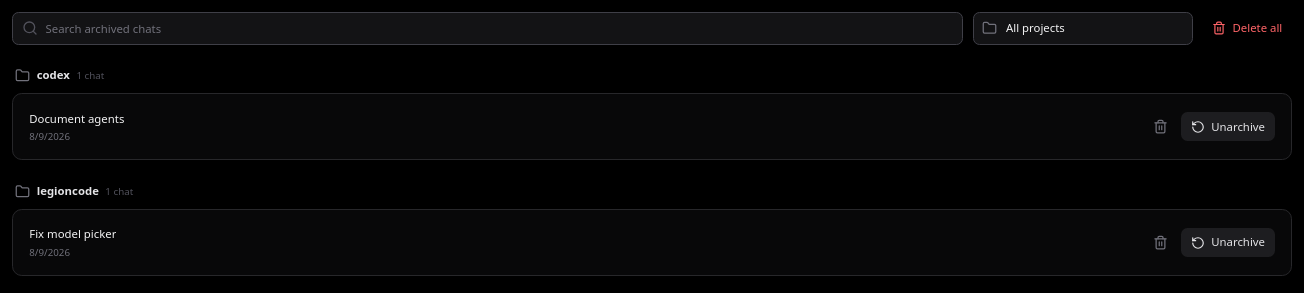
Test case: ArchivedChatsSettings › groups archived chats by project and filters the list
Check: the heading "legioncode" is shown, box [37,183,99,199]
Check: the heading "codex" is shown, box [37,67,70,84]
Type "model" into the search field with placeholder "Search archived chats" at (487, 28), box [12,12,963,44]
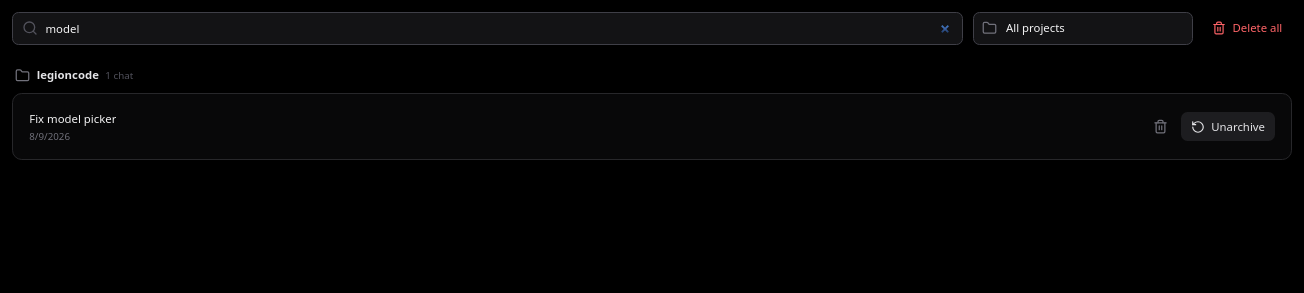
Check: the text "Fix model picker" is shown, box [29,110,116,127]
Check: the text "Document agents" is gone
